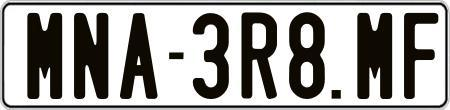3: (191, 12, 232, 98)
8: (286, 10, 324, 102)
A: (120, 11, 162, 100)
F: (402, 10, 431, 102)
M: (357, 13, 397, 105), (25, 12, 65, 100)
N: (73, 13, 107, 103)
R: (239, 11, 277, 101)
